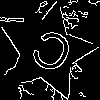C: (21, 26, 77, 84)
